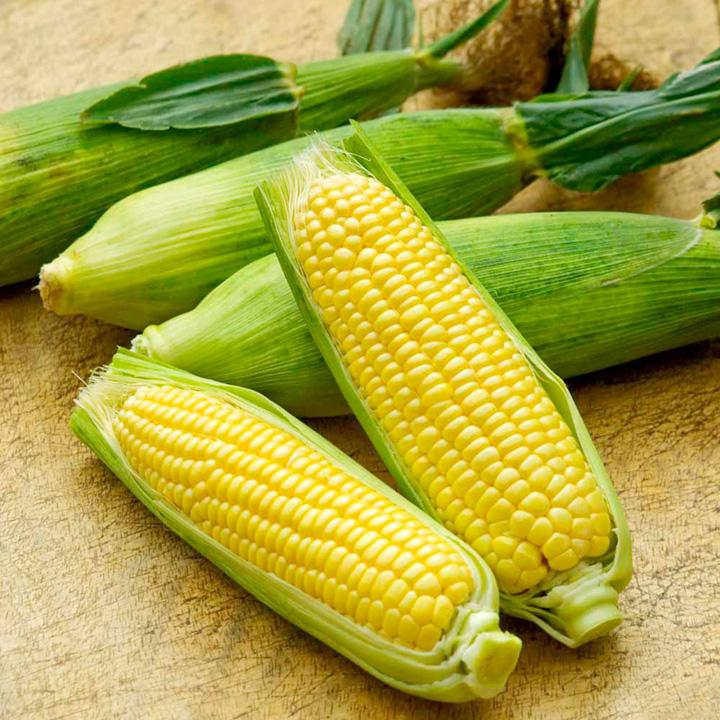sweetcorn: (7, 3, 715, 704), (253, 141, 633, 647), (70, 344, 523, 704), (1, 1, 513, 288)
